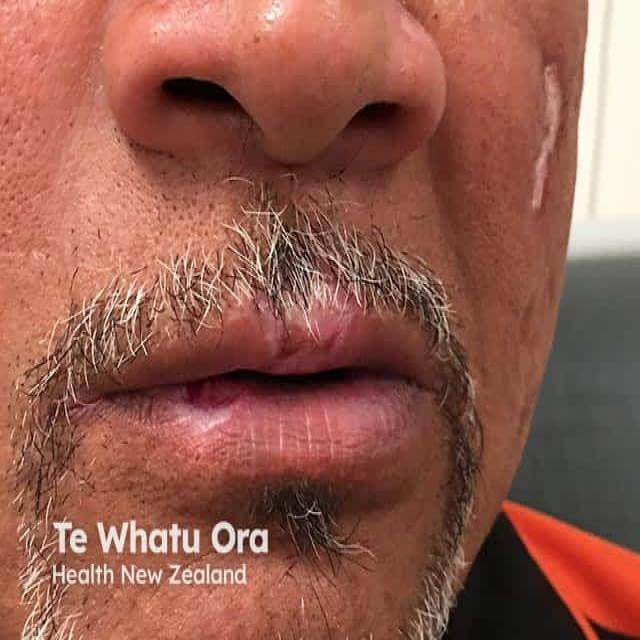lupus-detected: (147, 295, 397, 472), (505, 52, 609, 270)
